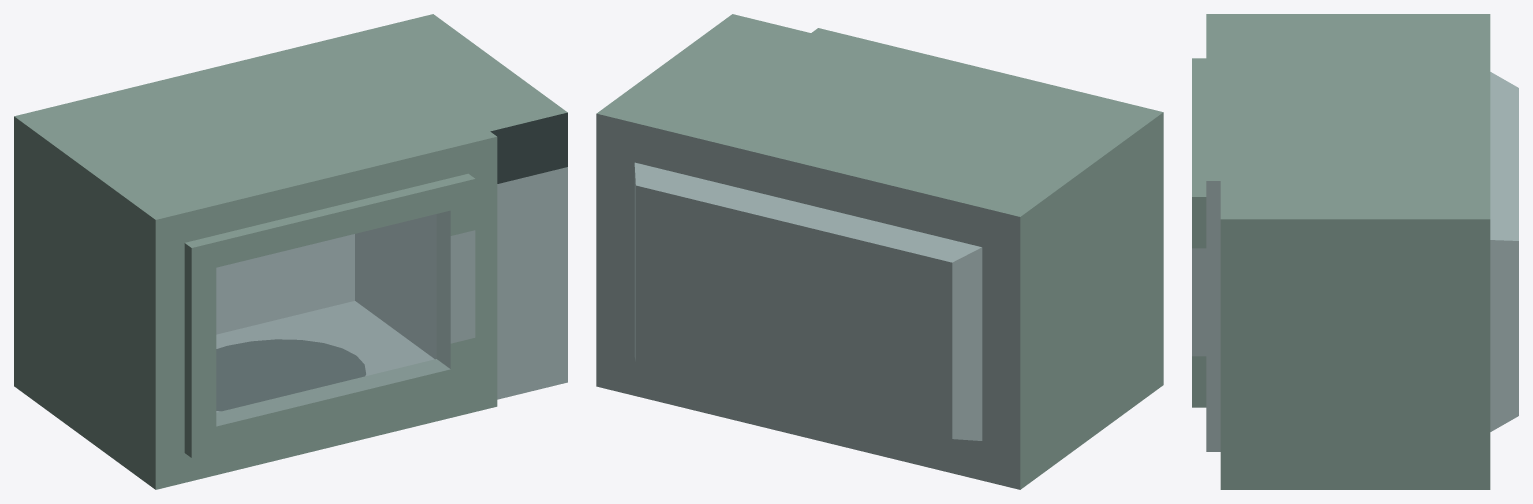
File: microwave_oven.glb
3 views of the same model, side by side, from view 1: azimuth 30°, elevation 25°; view 2: azimuth 150°, elevation 25°; view 3: azimuth 270°, elevation 25° (orthographic).
Parts seen in each view (by area): view 1: kitchenMicrowave(Clone), Group; view 2: kitchenMicrowave(Clone); view 3: kitchenMicrowave(Clone), Group.
Boxes of the visible parts, x1=… form: kitchenMicrowave(Clone): x1=14, y1=14, x2=567, y2=489; Group: x1=184, y1=173, x2=475, y2=457; kitchenMicrowave(Clone): x1=596, y1=14, x2=1163, y2=489; kitchenMicrowave(Clone): x1=1206, y1=14, x2=1518, y2=489; Group: x1=1192, y1=58, x2=1206, y2=407.
Size of the model in its own units: 0.52 by 0.32 by 0.35.
